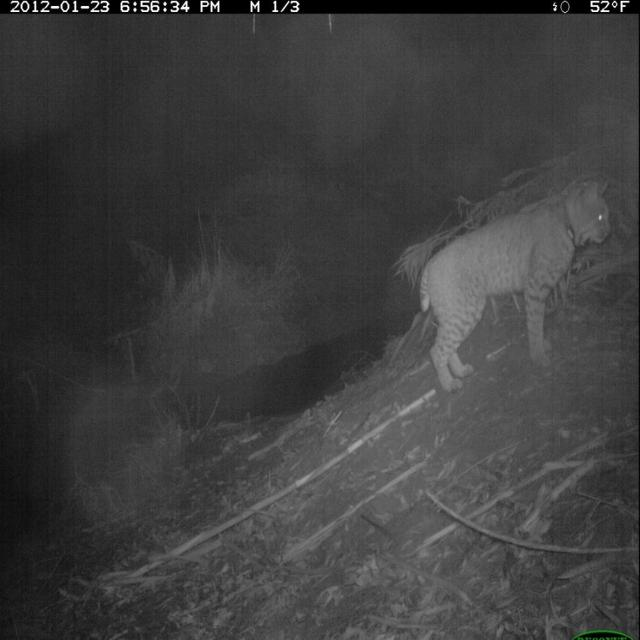bobcat: (396, 159, 621, 397)
